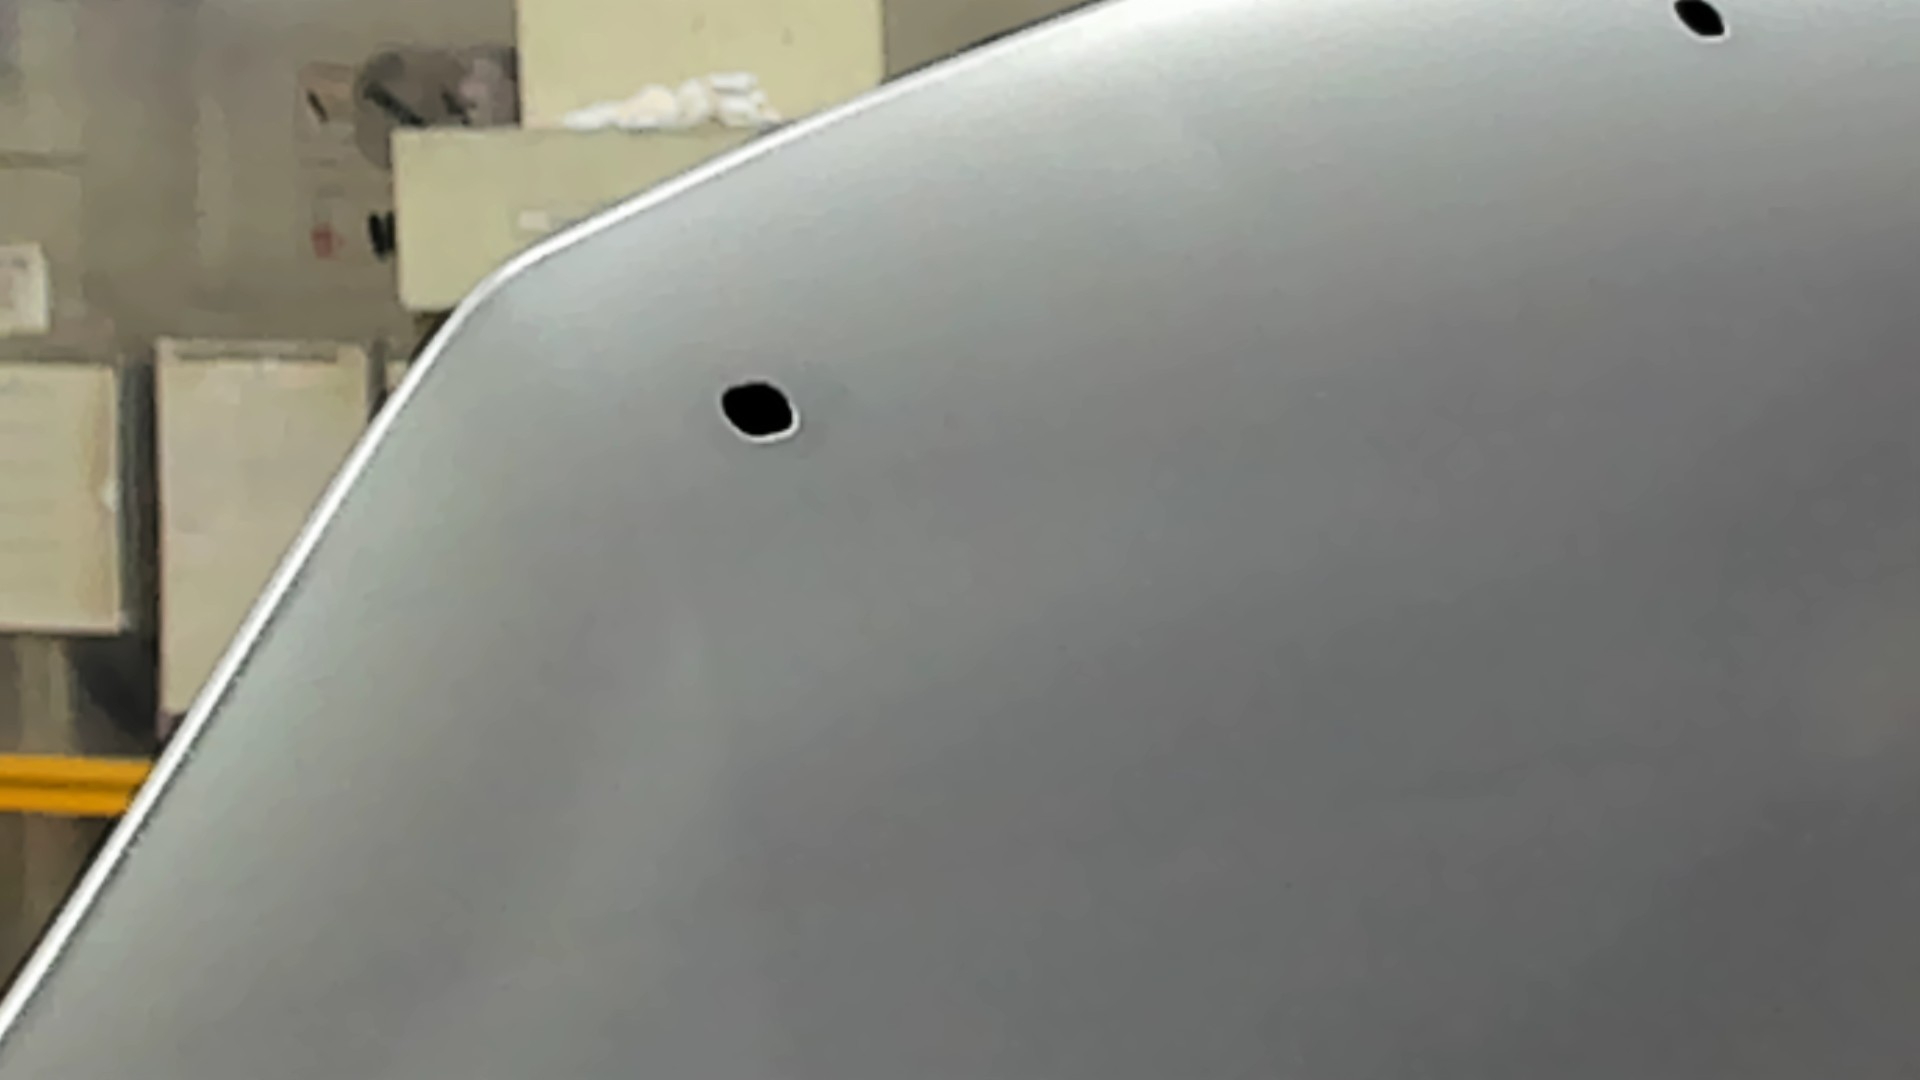amorfo: (709, 373, 814, 455), (1665, 1, 1739, 50)
capo: (932, 116, 1920, 1080)
